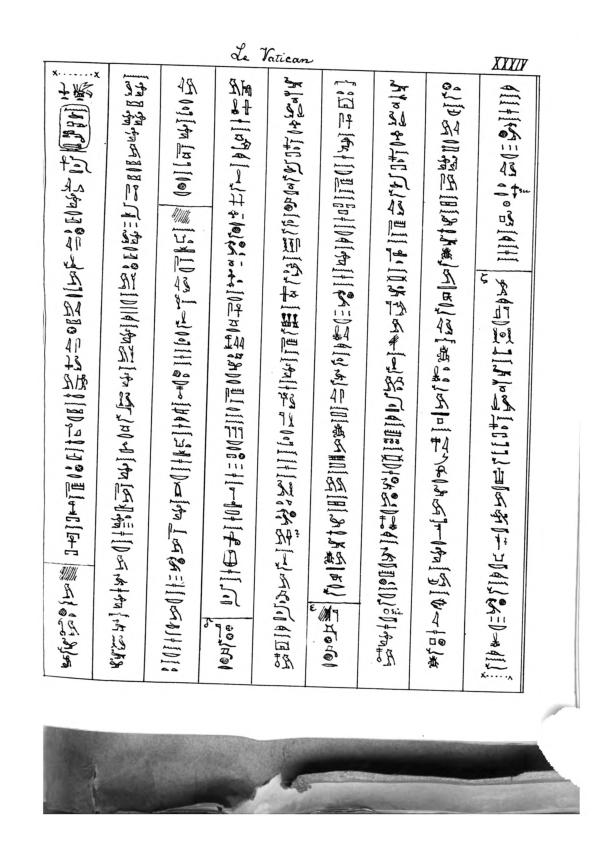circle: (54, 102, 92, 156)
